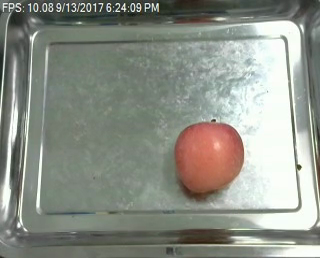Apple: (171, 117, 244, 196)
